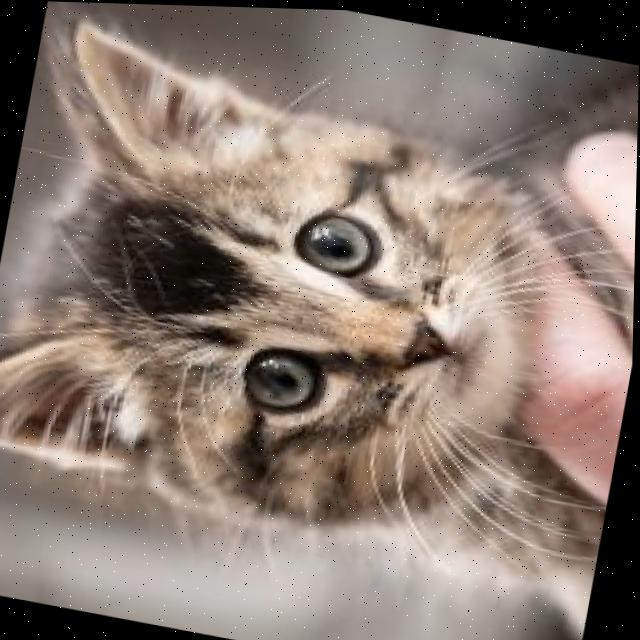Maine Coon: (0, 3, 640, 640)
